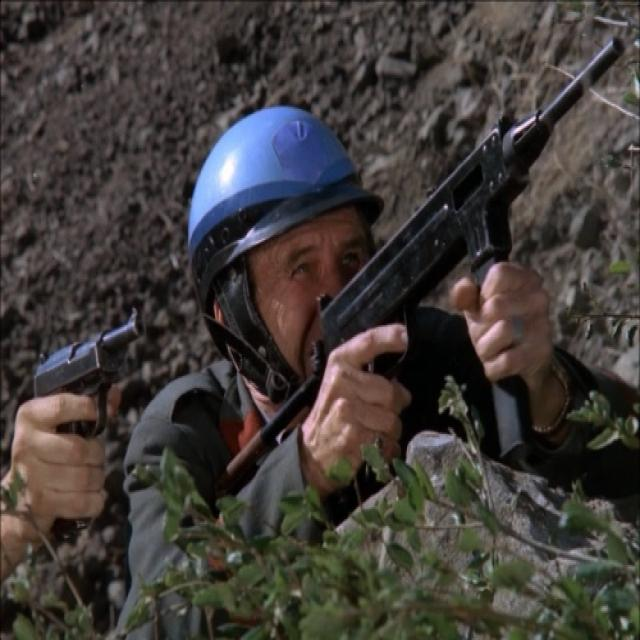rifle: (225, 40, 632, 505)
